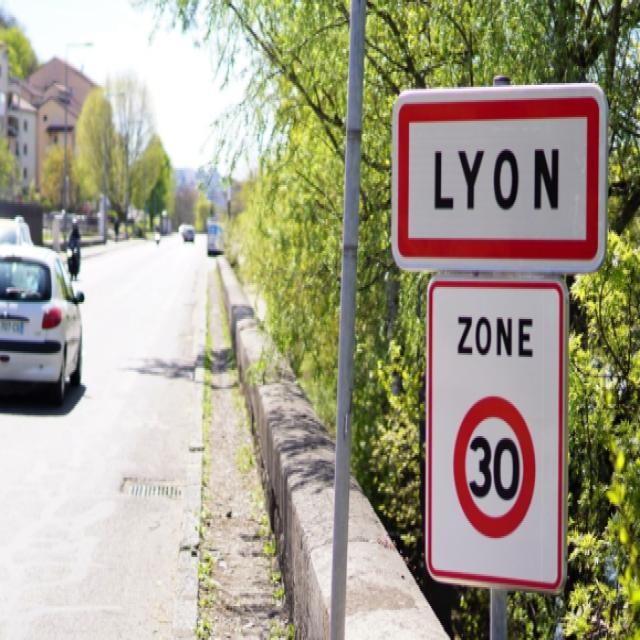speed_30: (451, 392, 538, 542)
